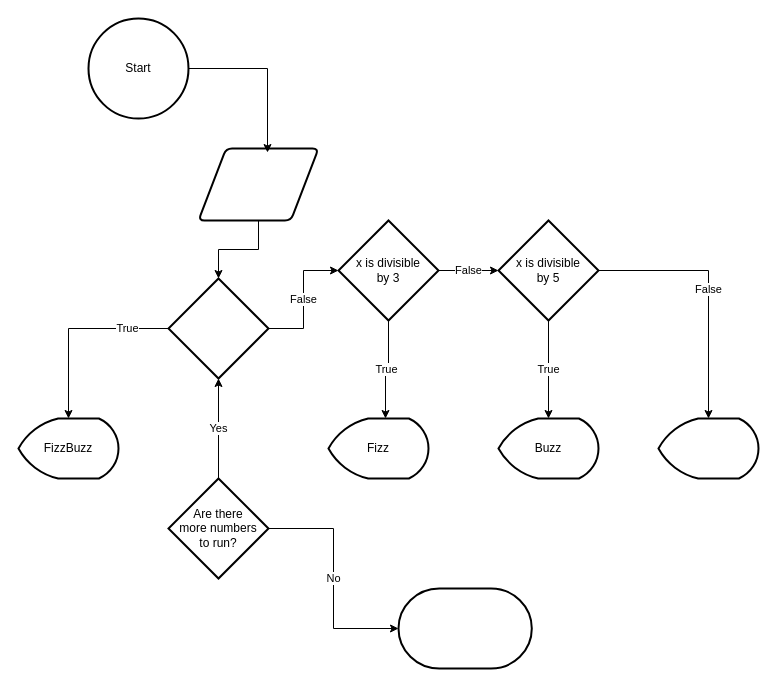
The diagram is 776 pixels wide and 686 high, and some of its shapes have lost their labels. The centre of each missing label's shape, as x and y in pixels:
Display number: point (708, 448)
End: point (464, 628)
set range of program: point (258, 184)
x is divisible by 3 and 5: point (218, 328)
